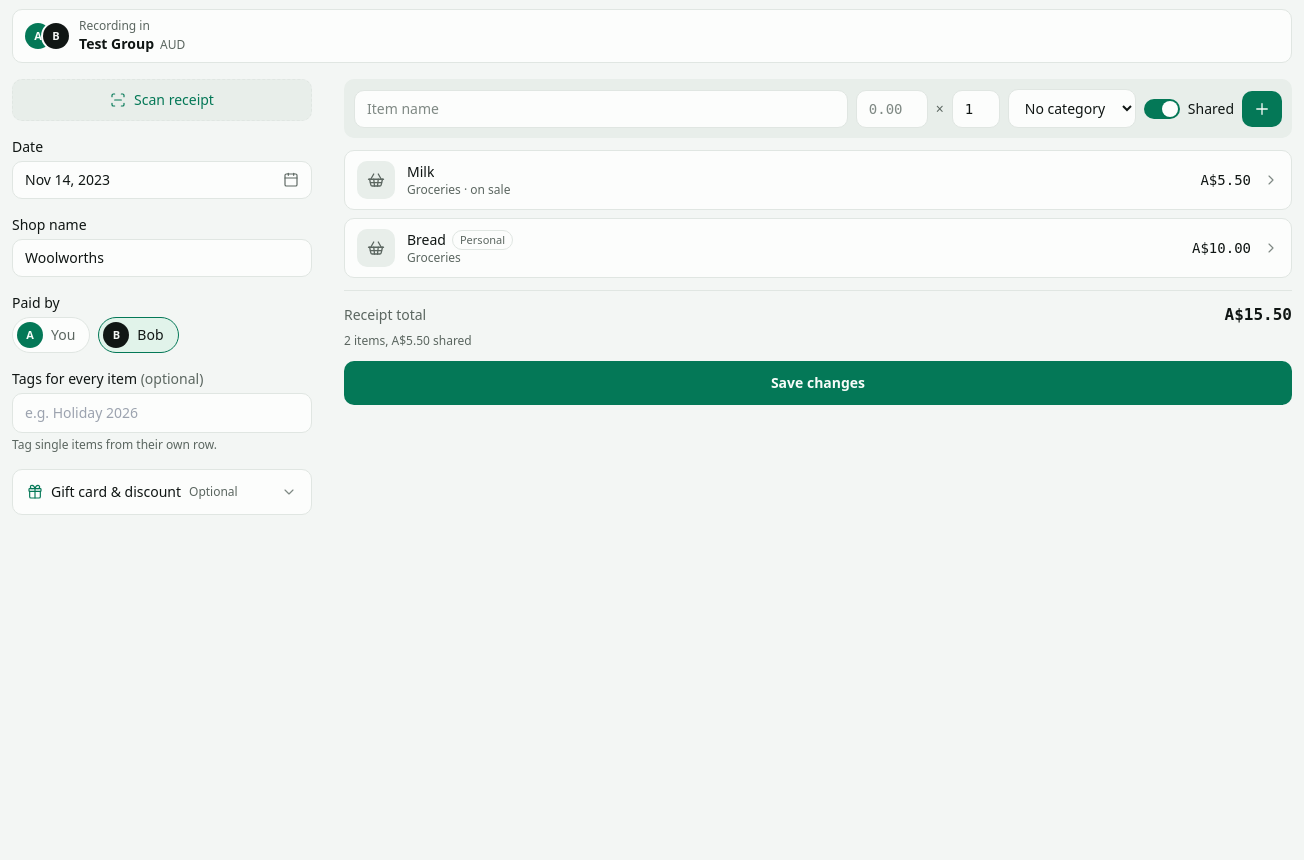
Test: ExpenseEditor › prefills item remark when editing an expense whose items have remarks
Note: Both rows start collapsed — expand them to reveal their remark inputs.
Click the button "Milk Groceries · on sale A$5.50": x=376, y=180 [345,151,1291,209]
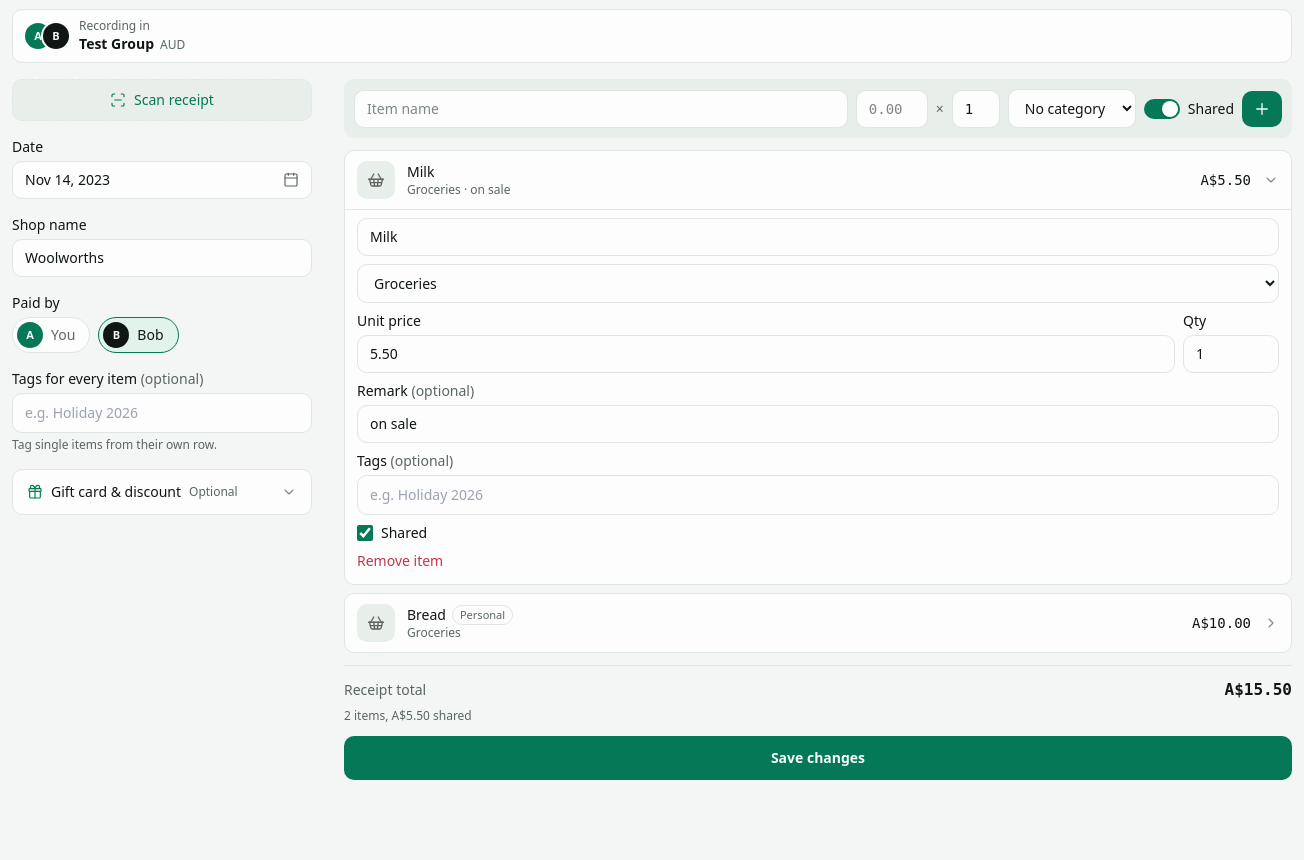
Click the button "Bread Personal Groceries A$10.00": x=376, y=623 [345,594,1291,652]
(page scrolled)
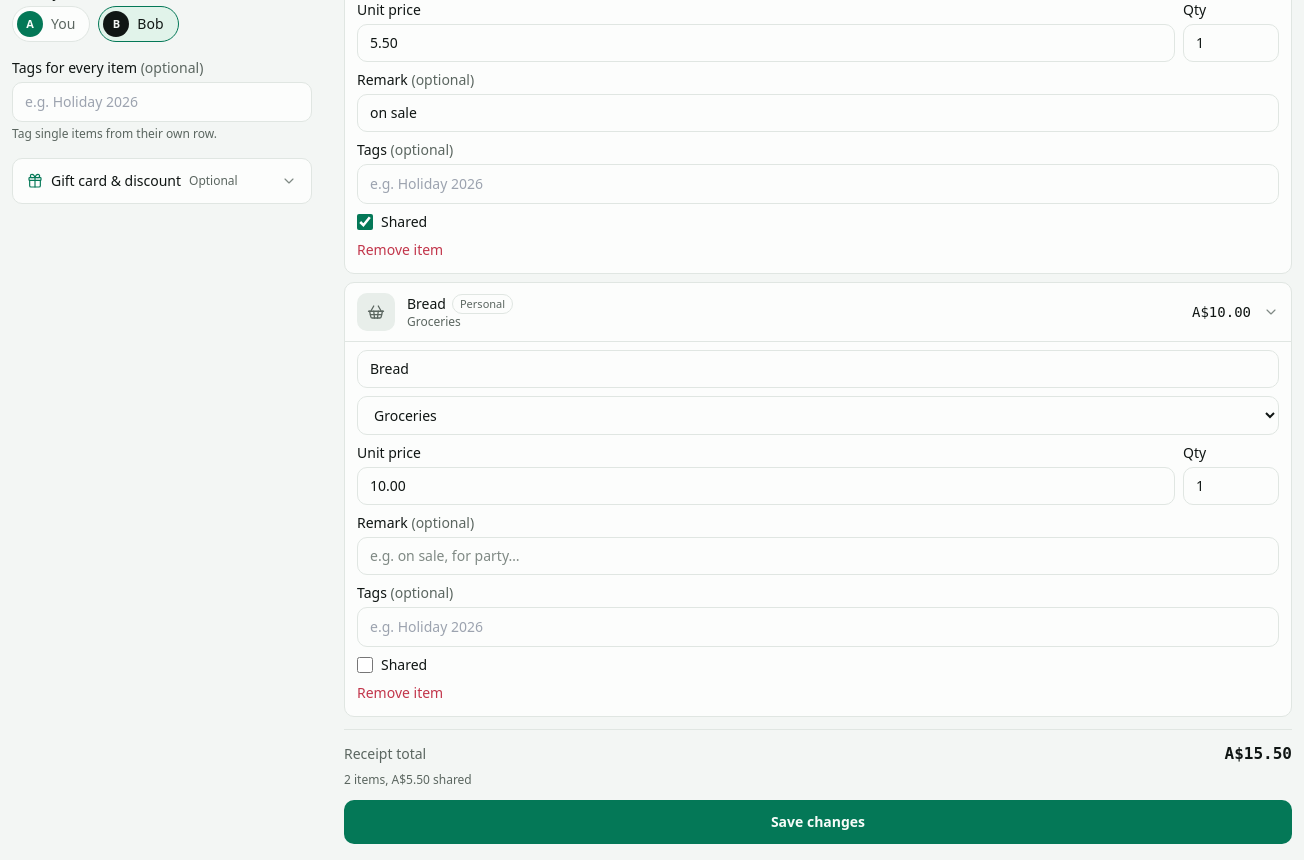
Now the 1st field with placeholder "e.g. on sale, for party…" holds "on sale", box [357,94,1279,132]
Now the 2nd field with placeholder "e.g. on sale, for party…" is empty, box [357,537,1279,575]
